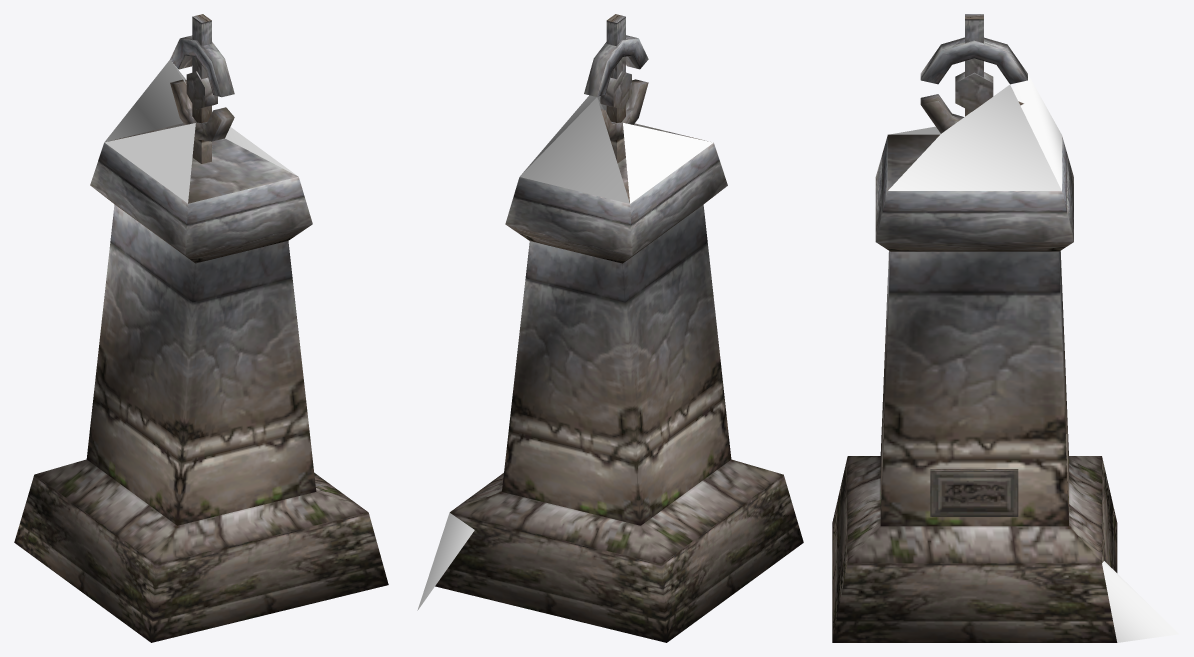
File: tombstonemonument01.obj
3 renders of one model, left to right at view 1: azimuth 30°, elevation 25°; view 2: azimuth 150°, elevation 25°; view 3: azimuth 270°, elevation 25°, orthographic. The views are drawn at different scales.
Visible parts, largest first — view 1: Geoset1, Geoset0, Geoset3; view 2: Geoset1, Geoset0, Geoset3; view 3: Geoset1, Geoset0, Geoset3, Geoset2.
Boxes of the visible parts, x1,y1,x2,y2 form: Geoset1: [86, 14, 316, 525]; Geoset0: [14, 459, 388, 642]; Geoset3: [104, 60, 297, 203]; Geoset1: [502, 14, 731, 525]; Geoset0: [435, 459, 803, 642]; Geoset3: [417, 95, 713, 610]; Geoset1: [875, 14, 1073, 526]; Geoset0: [832, 456, 1117, 642]; Geoset3: [888, 74, 1178, 642]; Geoset2: [930, 469, 1018, 516].
Size of the model in its own units: 2.52 by 5.53 by 3.07.
4 materials, 4 textured.
